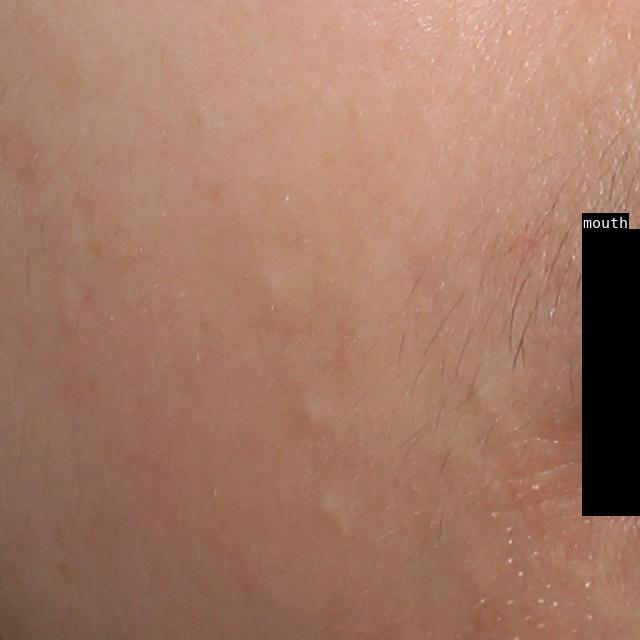comedo: (310, 488, 349, 532), (259, 269, 293, 304), (294, 397, 323, 432), (464, 380, 498, 409)
